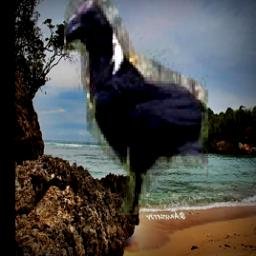Crow: (63, 0, 207, 215)
